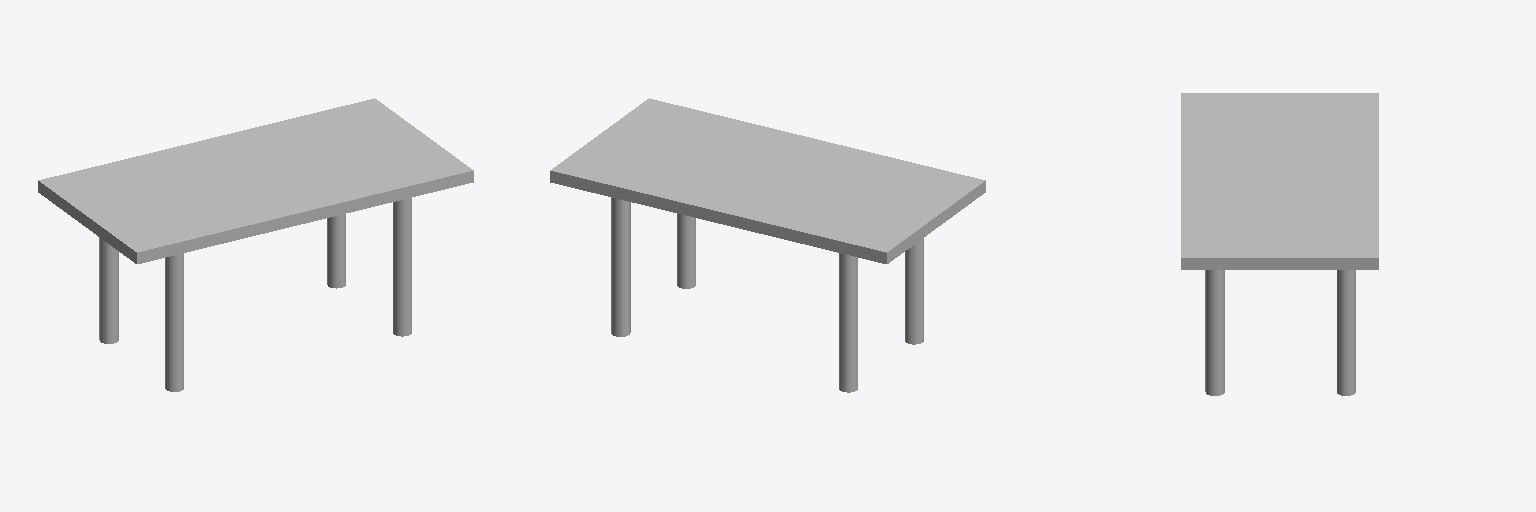
The model's file is try3.obj.
3 renders of one model, left to right at view 1: azimuth 30°, elevation 25°; view 2: azimuth 150°, elevation 25°; view 3: azimuth 270°, elevation 25°, orthographic.
Parts seen in each view (by area): view 1: Cube; view 2: Cube; view 3: Cube.
Part boxes in pixels (left/top/right/bottom): Cube: left=38, top=98, right=473, bottom=391; Cube: left=550, top=98, right=985, bottom=392; Cube: left=1181, top=93, right=1378, bottom=395.
Size of the model in its own units: 73.02 by 33.35 by 37.05.